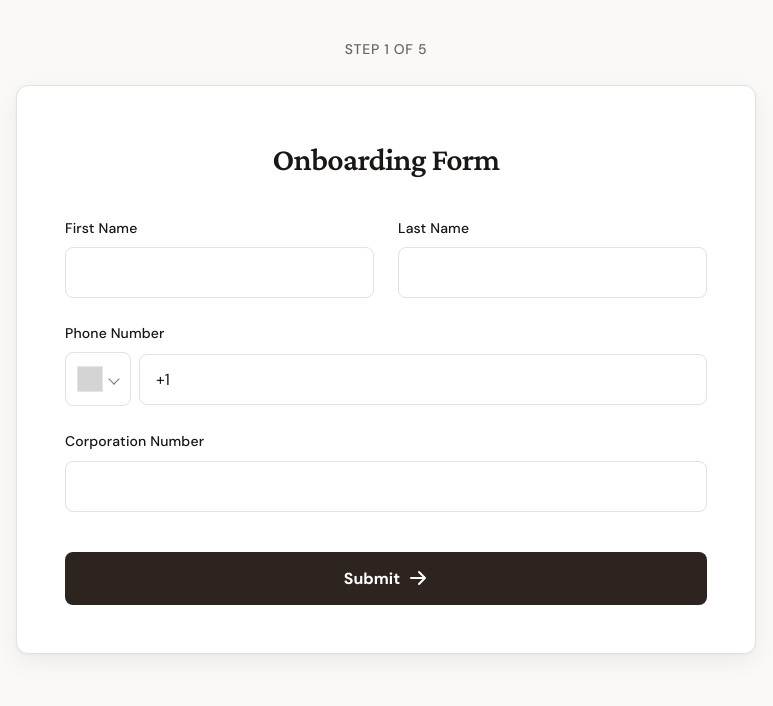
Scenario: OnboardingForm › 10 - submits form with valid data
// Fill in all fields
Type "John" into the field labelled "First Name" at {"x": 220, "y": 273}, box [65,247,374,298]
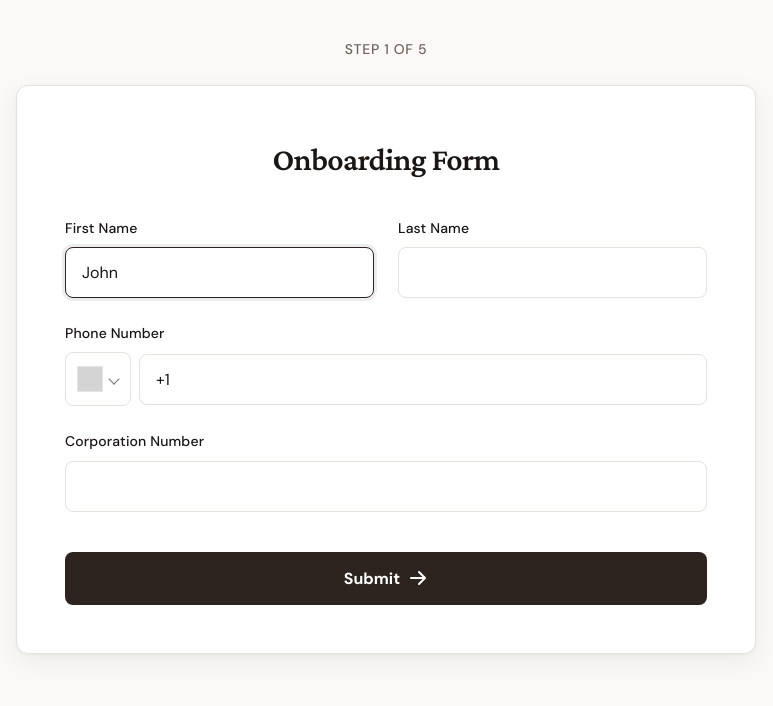
Type "Doe" into the field labelled "Last Name" at {"x": 552, "y": 273}, box [398,247,707,298]
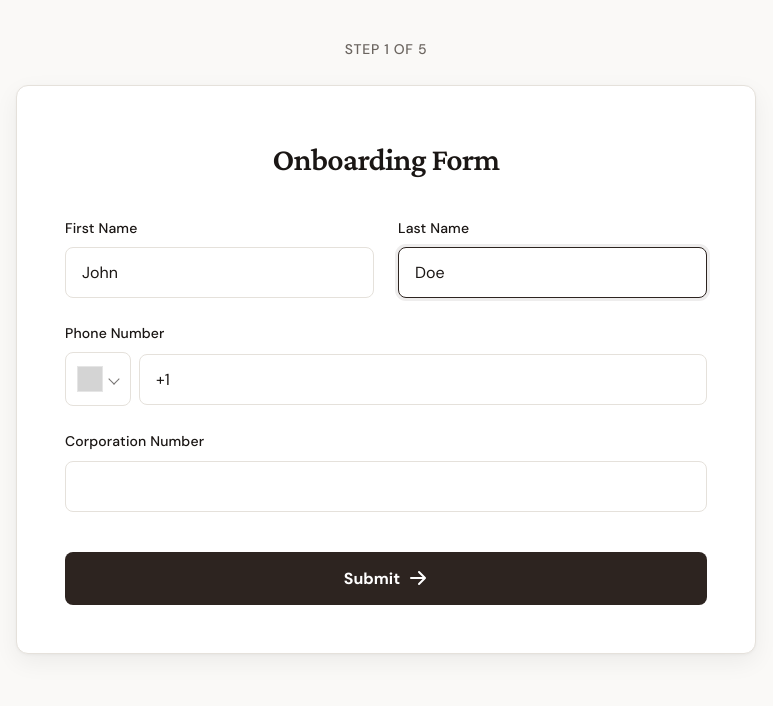
Type "+13062776103" into the field labelled "Phone Number" at {"x": 423, "y": 380}, box [139,354,707,405]
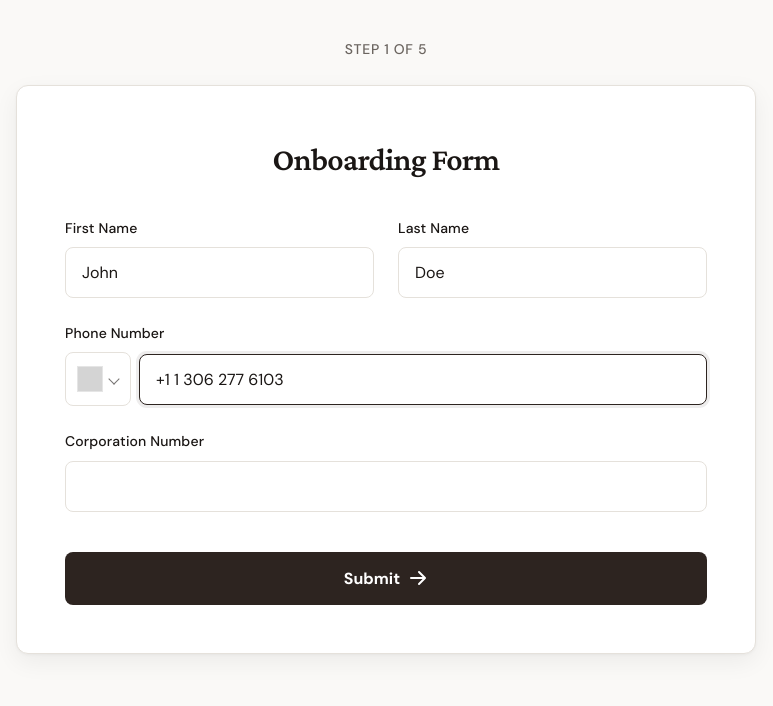
Type "123456789" into the field labelled "Corporation Number" at {"x": 386, "y": 486}, box [65,461,707,512]
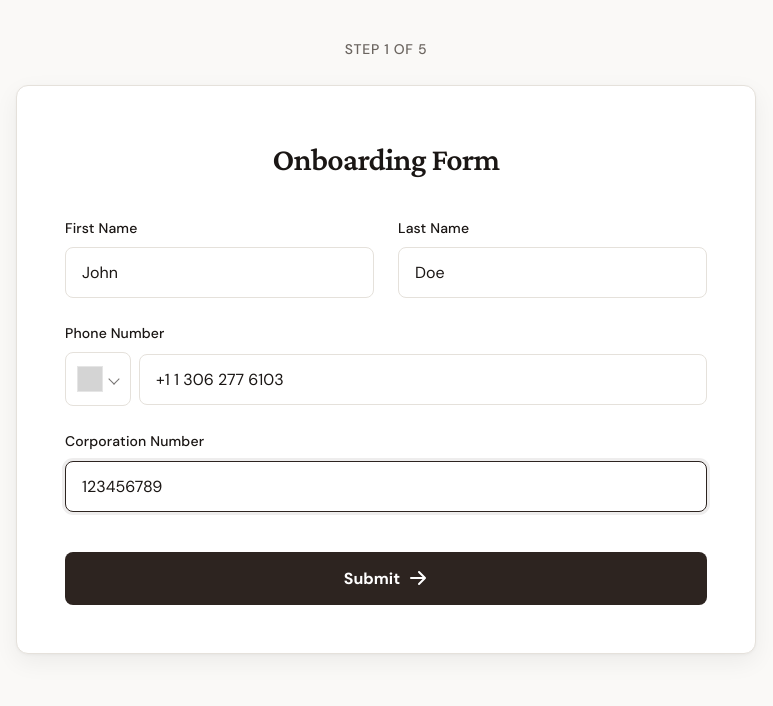
Press Tab
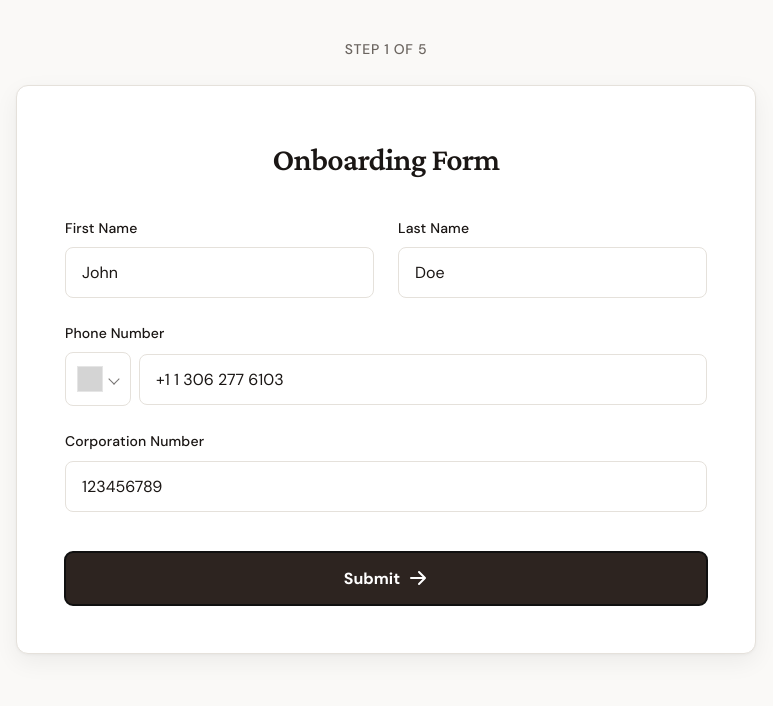
// Submit form
Click the button "Submit" at {"x": 386, "y": 578}, box [65,552,707,605]
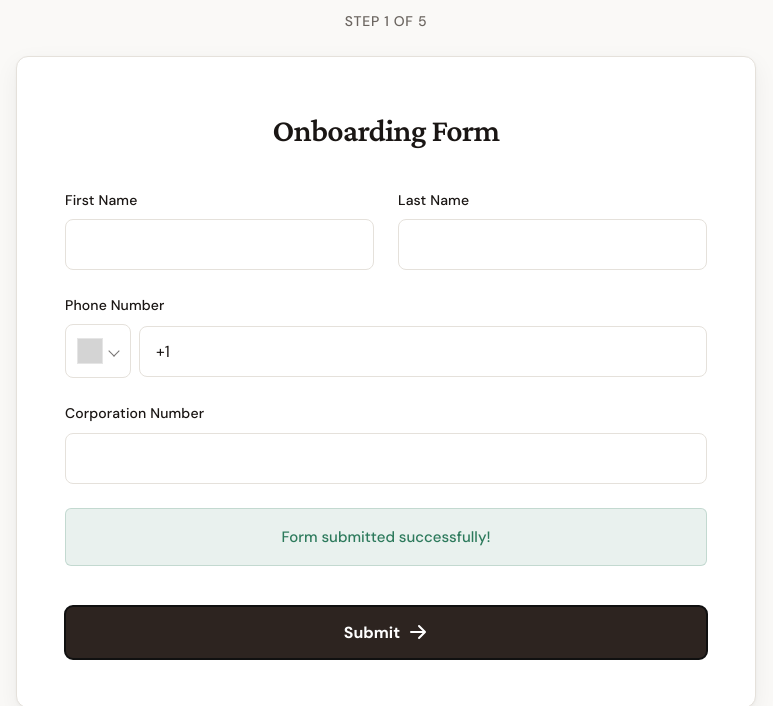
Check: the text "Form submitted successfully!" is shown, box [65,508,707,566]
